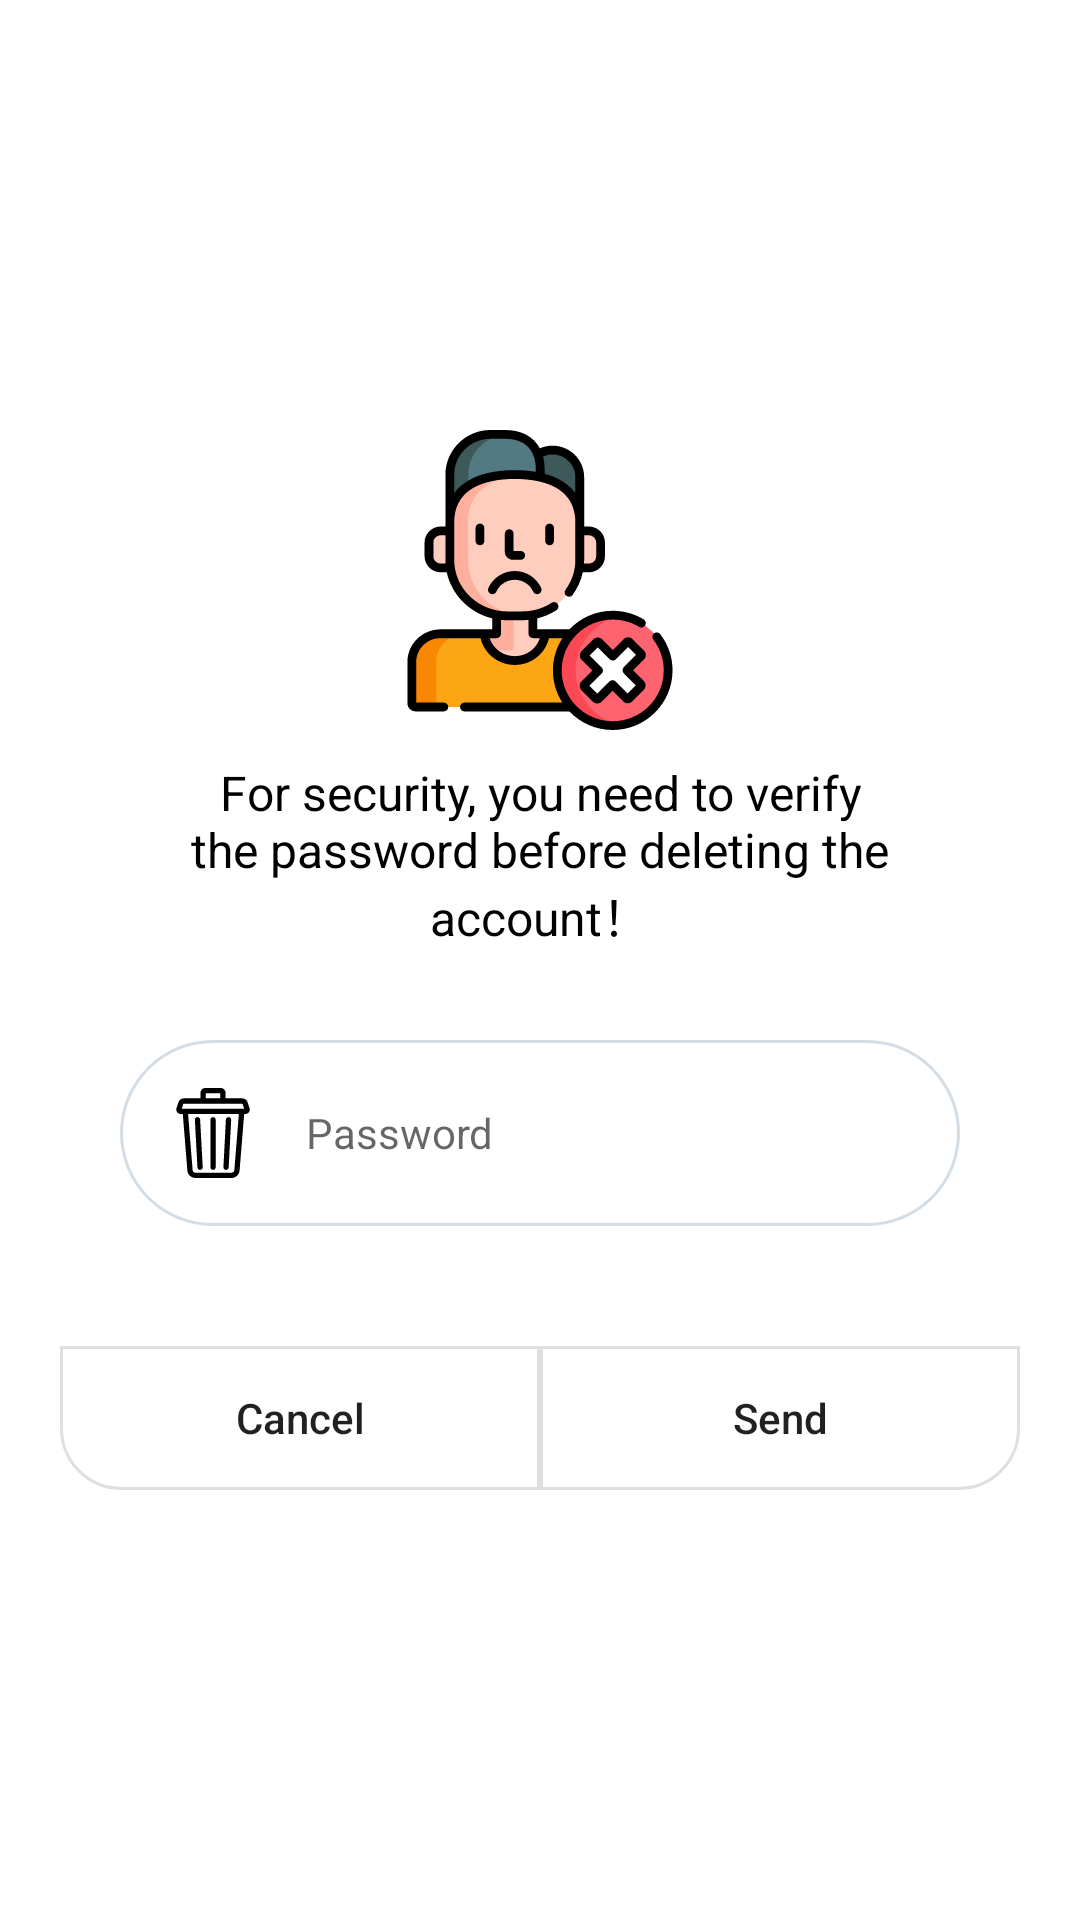

Icons on this 1080x1920 Android screen, each with the point to tap as [x,y]:
deleteaccount: [540,580]
